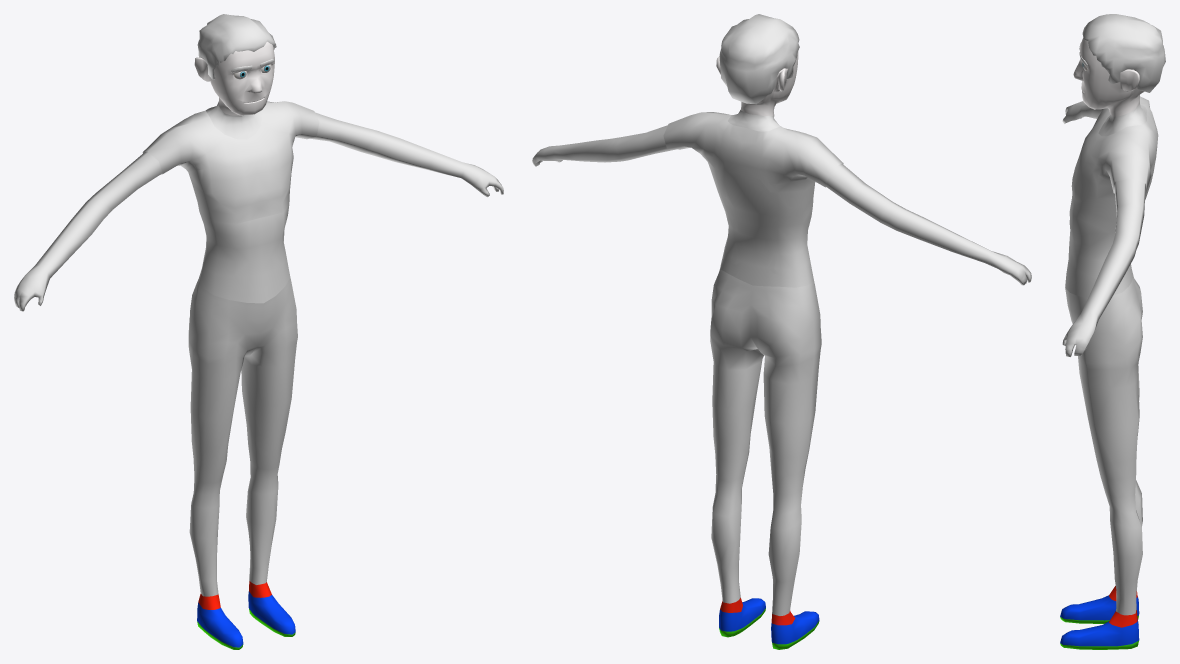
Rendered from Man_V2.fbx.
The picture shows the model from 3 angles, left to right: view 1: azimuth 30°, elevation 25°; view 2: azimuth 150°, elevation 25°; view 3: azimuth 270°, elevation 25°; orthographic projection.
Visible parts, largest first — view 1: Legs, T_shirt, Hands, chest, Head, Feet, hair; view 2: Legs, T_shirt, chest, Hands, hair, Feet, Head; view 3: Legs, T_shirt, Hands, chest, hair, Feet, Head.
Part boxes in pixels (left/top/right/bottom): Legs: left=188, top=277, right=297, bottom=596; T_shirt: left=142, top=101, right=319, bottom=223; Hands: left=14, top=112, right=503, bottom=311; chest: left=186, top=102, right=293, bottom=303; Head: left=194, top=41, right=274, bottom=115; Feet: left=197, top=581, right=295, bottom=649; hair: left=197, top=14, right=276, bottom=79; Legs: left=710, top=265, right=821, bottom=615; T_shirt: left=663, top=112, right=843, bottom=285; chest: left=708, top=109, right=815, bottom=287; Hands: left=532, top=125, right=1031, bottom=285; hair: left=719, top=14, right=799, bottom=104; Feet: left=719, top=598, right=819, bottom=649; Head: left=716, top=51, right=798, bottom=115; Legs: left=1065, top=270, right=1142, bottom=615; T_shirt: left=1071, top=96, right=1158, bottom=283; Hands: left=1062, top=101, right=1145, bottom=356; chest: left=1065, top=104, right=1153, bottom=297; hair: left=1082, top=14, right=1165, bottom=92; Feet: left=1060, top=586, right=1139, bottom=649; Head: left=1073, top=38, right=1144, bottom=116.
Bounding box in the file's own units: 146 × 175 × 27.29.
